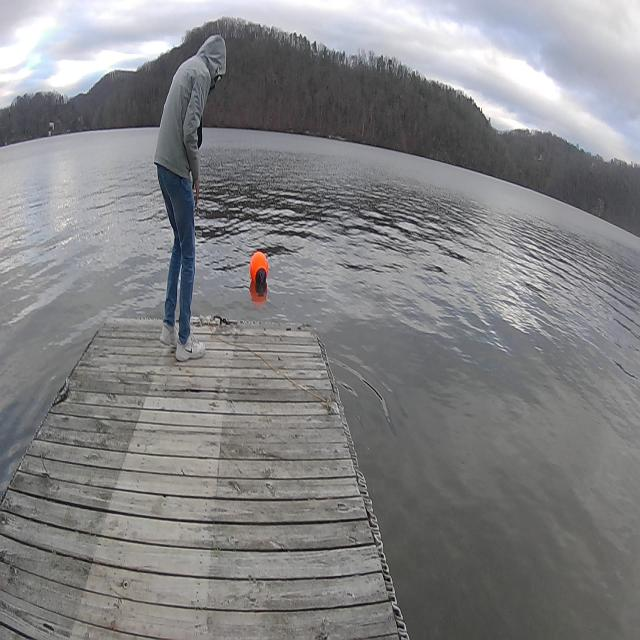Buoy: (241, 239, 277, 294)
